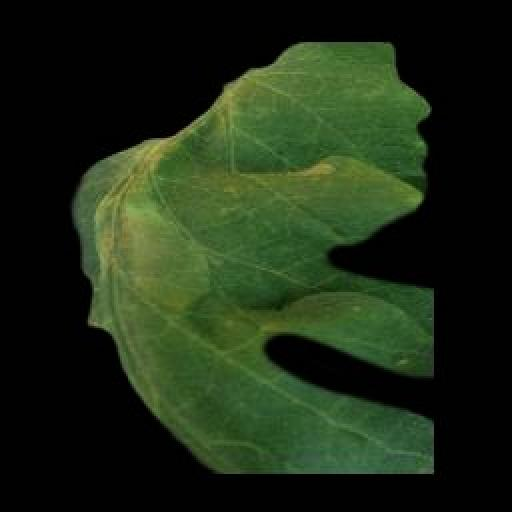disease_tomato: (69, 42, 435, 474)
